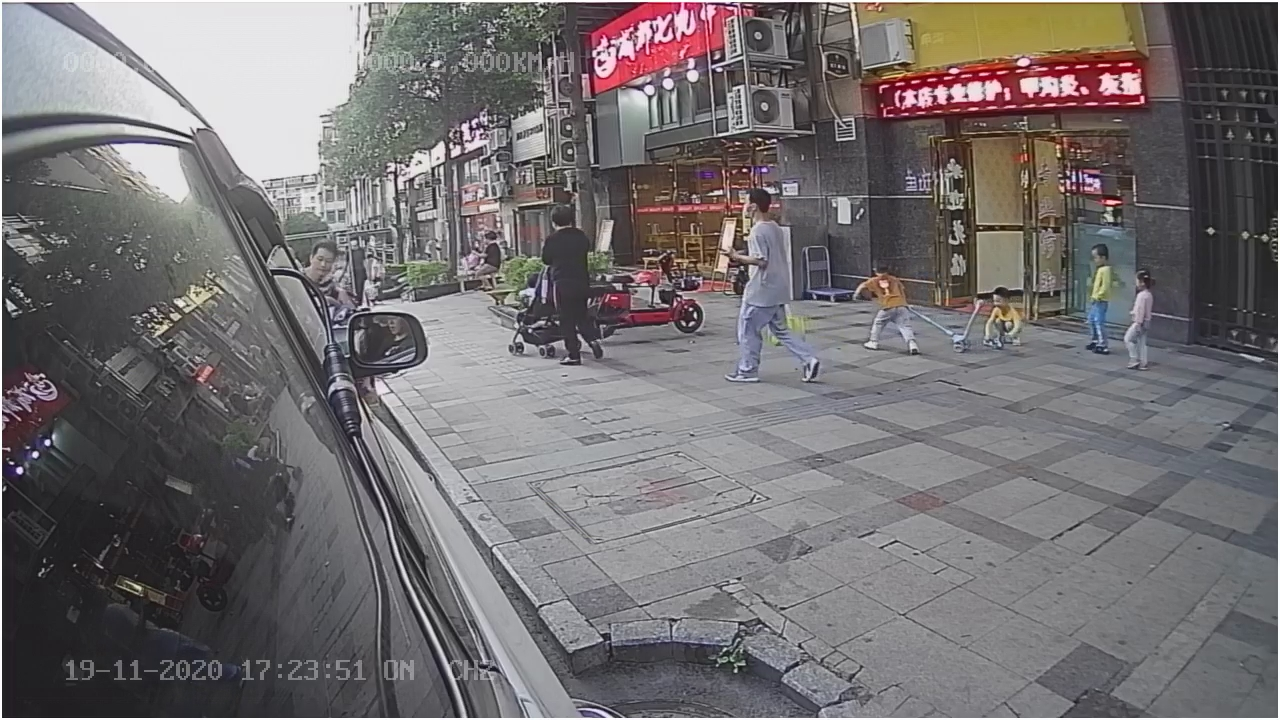person: (718, 186, 828, 388), (539, 202, 609, 371), (854, 260, 923, 357), (1075, 241, 1117, 354), (1119, 267, 1157, 371), (980, 286, 1028, 349)
